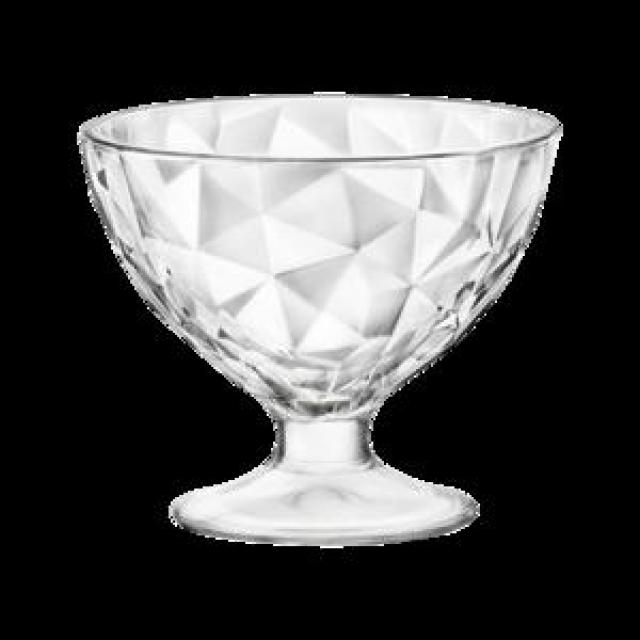non-organic waste: (51, 86, 576, 556)
